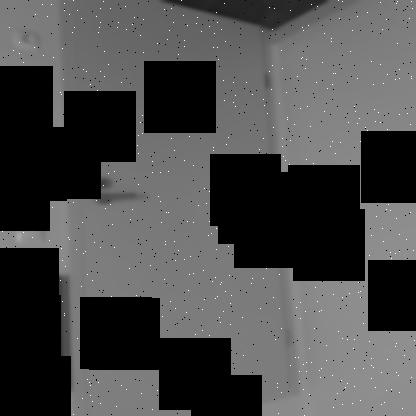Porte: (54, 1, 302, 415)
